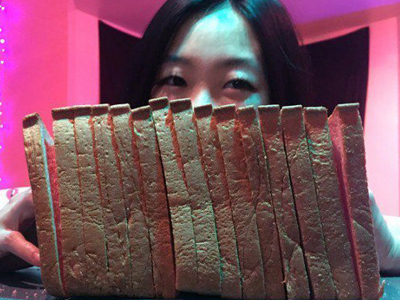face: (146, 13, 271, 187)
